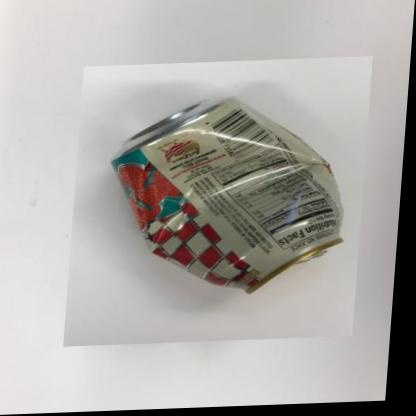trash: (112, 98, 342, 292)
